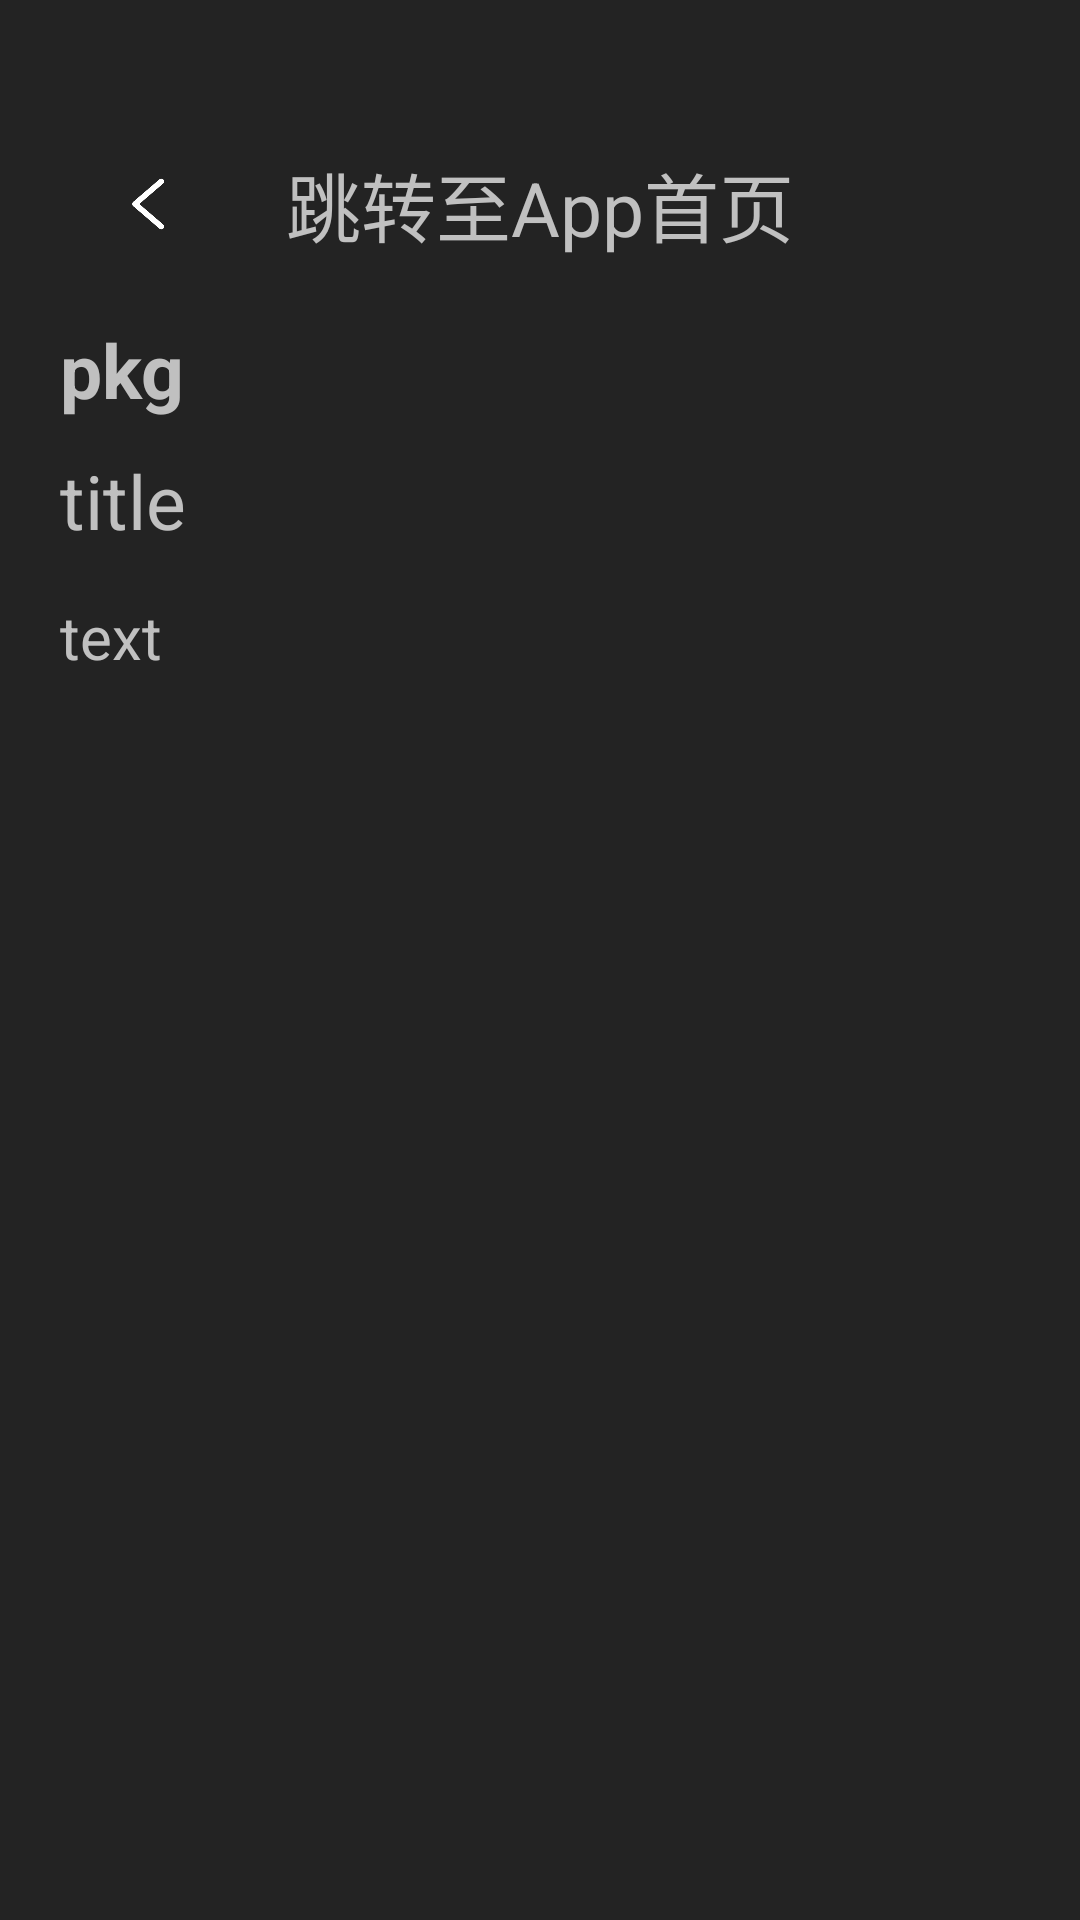

Where icons sit on this 1080px x 1920px app screen, as (x1, y1, x2, y2):
left: (132, 179, 164, 230)
